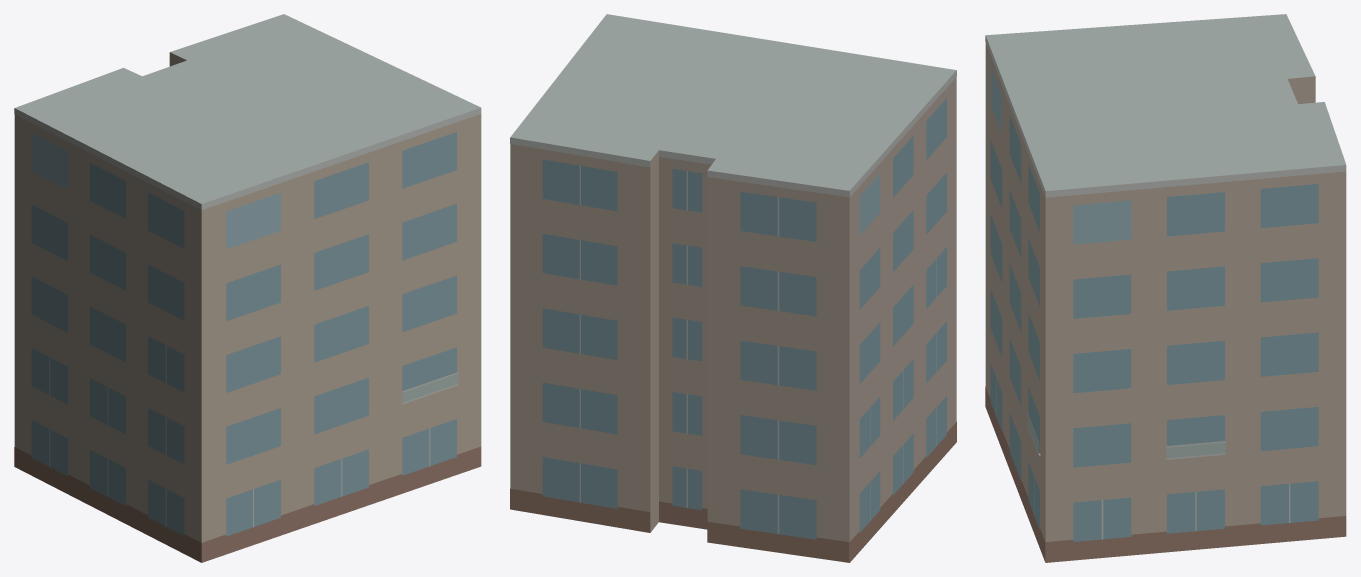
Rendered from survey-upis-32743912.glb.
The picture shows the model from 3 angles, left to right: view 1: azimuth 30°, elevation 25°; view 2: azimuth 150°, elevation 25°; view 3: azimuth 270°, elevation 25°; orthographic projection. The views are drawn at different scales.
Visible parts, largest first — view 1: survey-upis-32743912.tmp; view 2: survey-upis-32743912.tmp; view 3: survey-upis-32743912.tmp.
Boxes of the visible parts, x1,y1,x2,y2 form: survey-upis-32743912.tmp: (14,14,481,562); survey-upis-32743912.tmp: (510,14,956,562); survey-upis-32743912.tmp: (985,14,1346,562).
Bounding box in the file's own units: 14.33 × 14 × 12.33.
